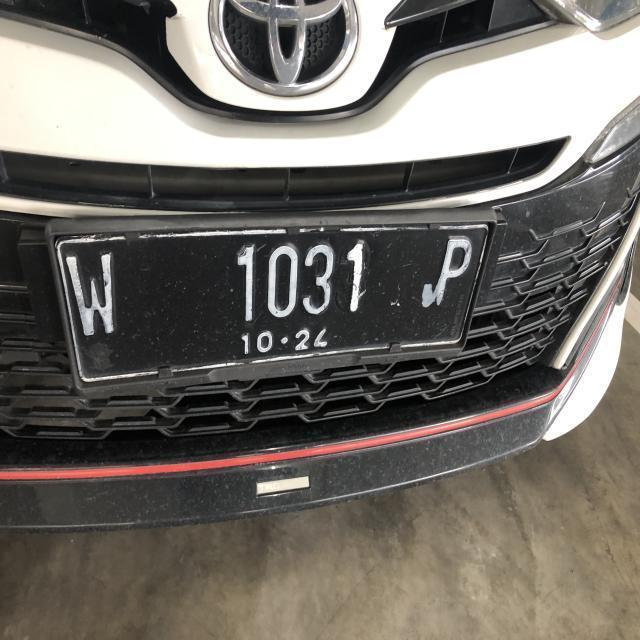0: (268, 242, 296, 320)
1: (344, 242, 376, 320), (235, 239, 262, 329)
3: (302, 238, 334, 316)
P: (432, 234, 469, 310)
W: (67, 247, 122, 344)
